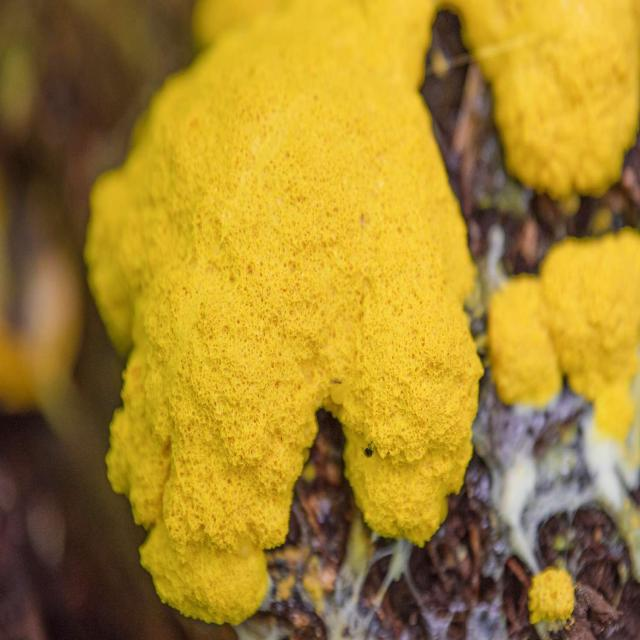Dog_vomit_slime_mold: (15, 8, 640, 636)
